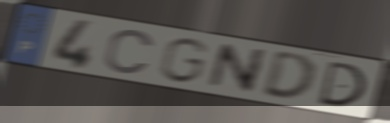4: (51, 16, 94, 72)
C: (102, 28, 158, 76)
D: (258, 50, 318, 104), (315, 59, 369, 109)
G: (155, 36, 212, 85)
N: (204, 42, 271, 96)
